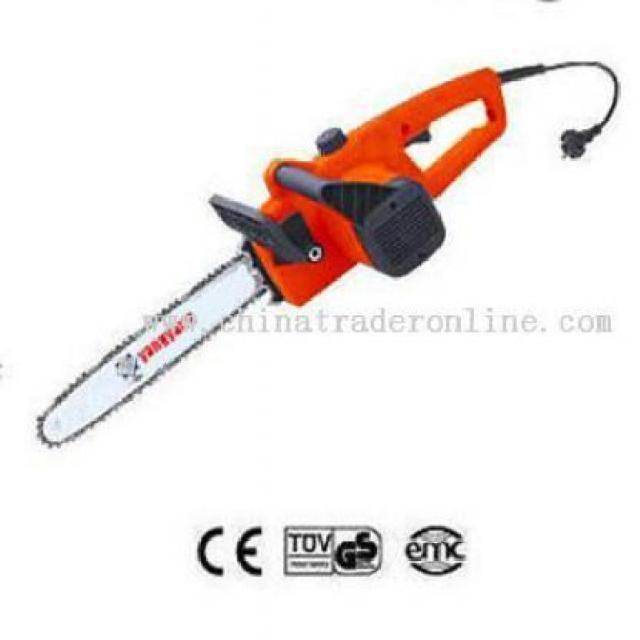Chainsaw: (39, 58, 622, 450)
